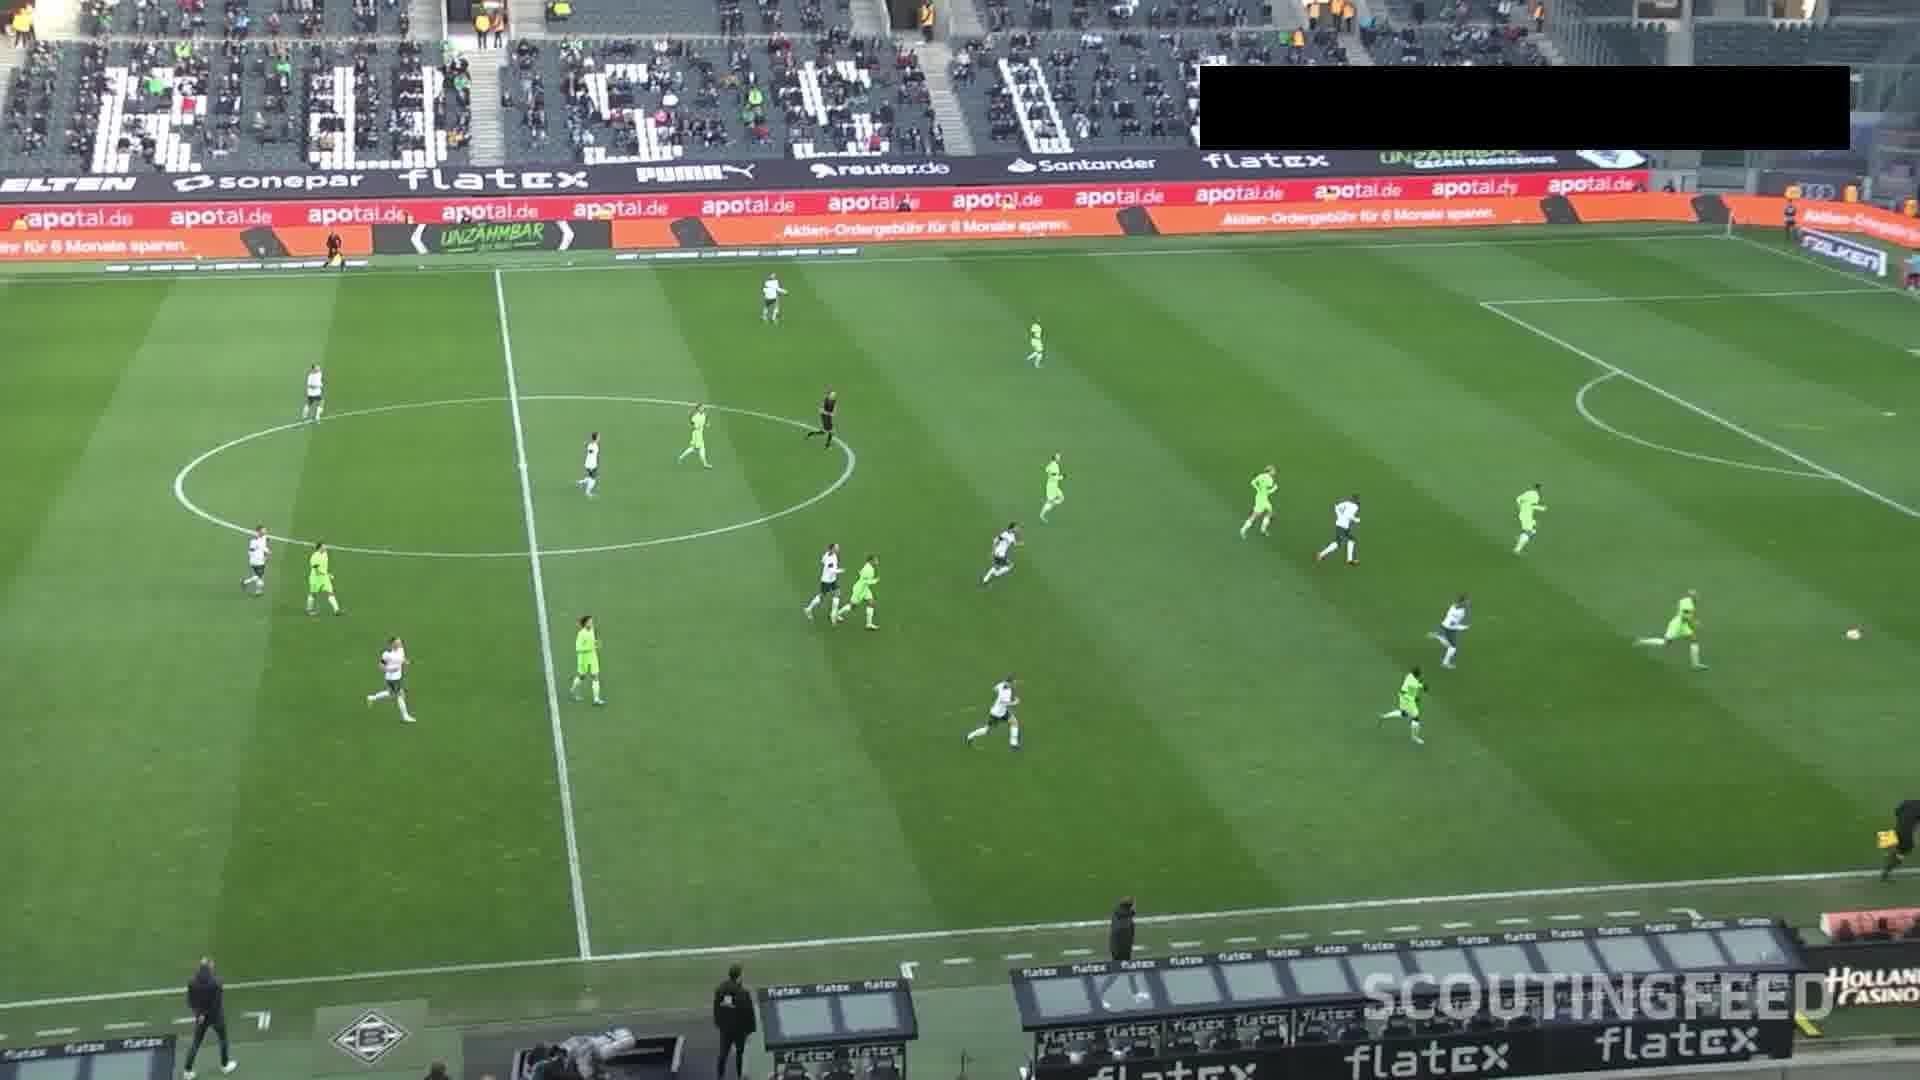football: (1844, 625, 1863, 641)
